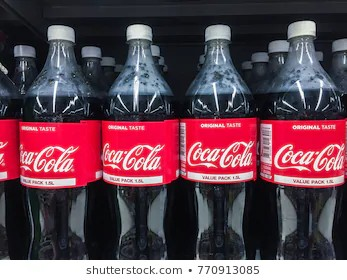coke-bottle-2l: (16, 20, 102, 263), (259, 20, 347, 255), (103, 19, 181, 260), (181, 18, 258, 260)
